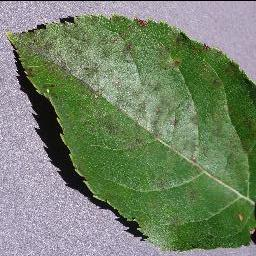apple healthy: (5, 12, 255, 252)
